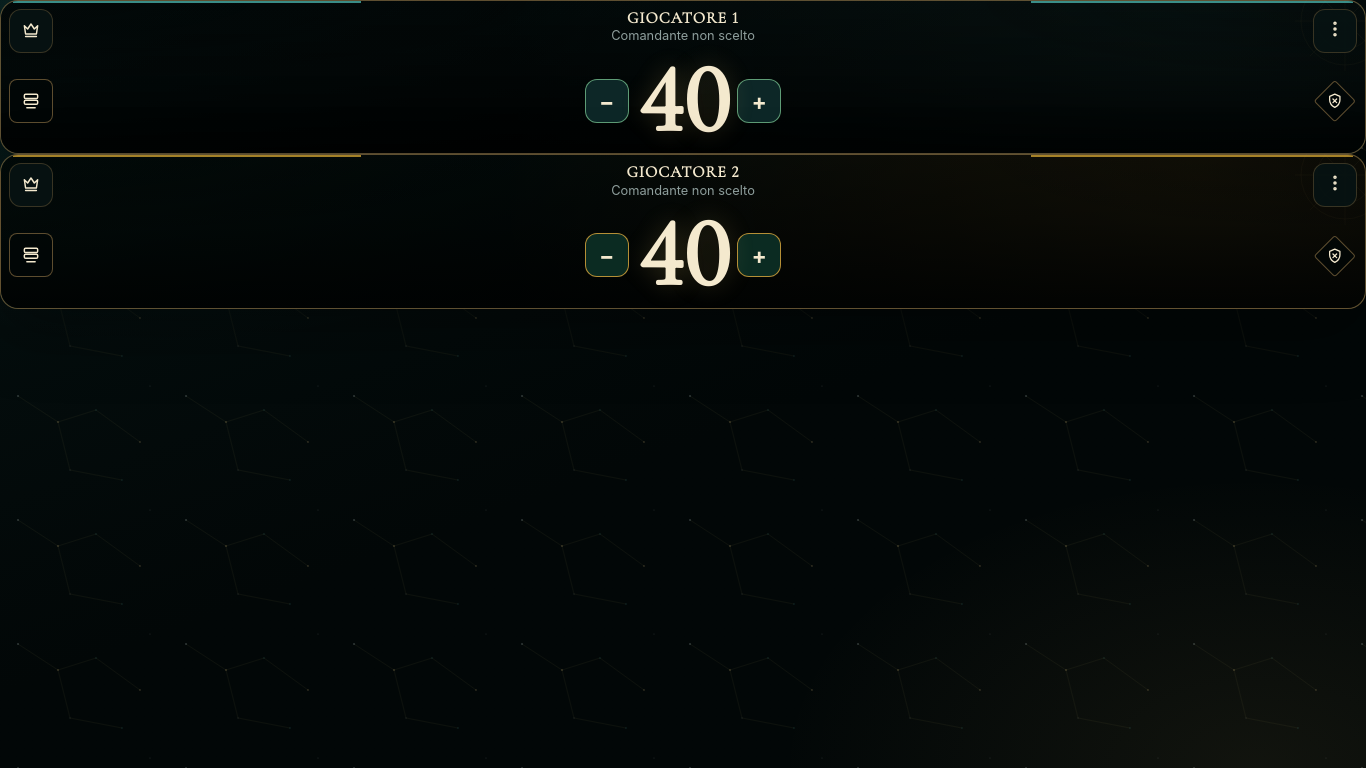
Test: closed player card (R2 §3, compact) › moves life by one only, with the cumulative delta beside it
Click the button named "Riduci di 1 la vita di Giocatore 1": (607, 101) [585,79,629,123]
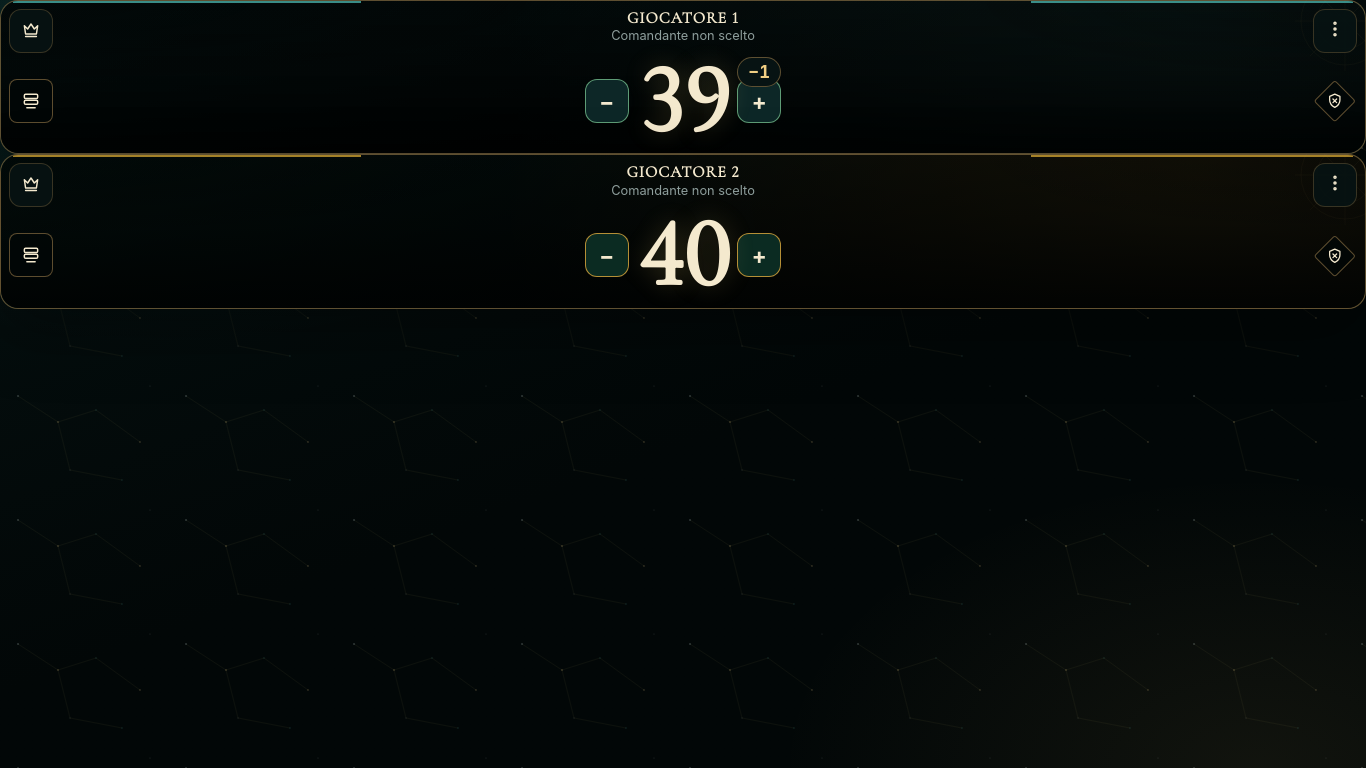
Click the button named "Riduci di 1 la vita di Giocatore 1": (607, 101) [585,79,629,123]
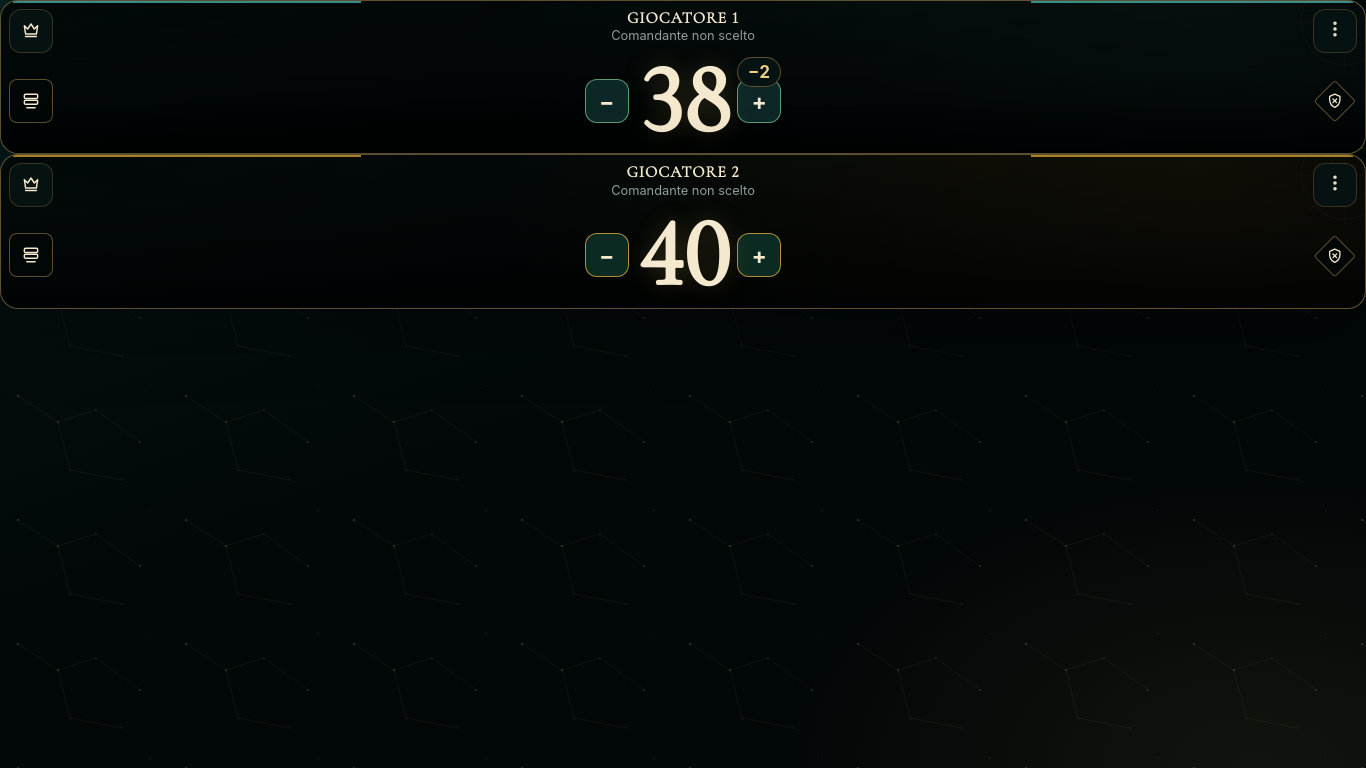
expect the text with test id "life-total" reads "38": met, box [637,42,729,154]
expect the text with test id "delta-badge" reads "−2": met, box [748,62,770,82]
